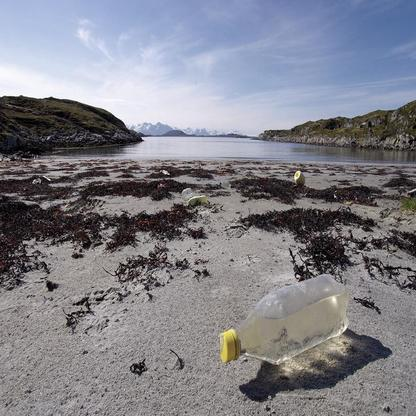plastic bottle: (218, 274, 350, 361)
